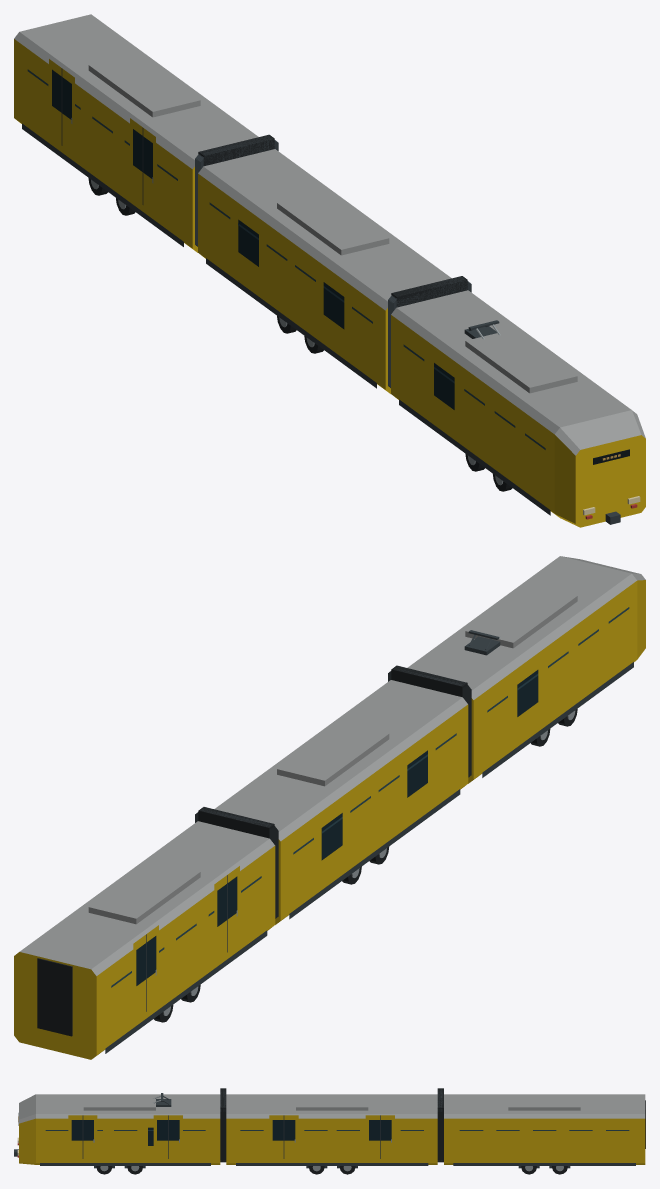
Rendered from tram-gt6n.glb.
3 views of the same model, one above another, from view 1: azimuth 30°, elevation 25°; view 2: azimuth 150°, elevation 25°; view 3: azimuth 270°, elevation 25° (orthographic). The views are drawn at different scales.
Parts seen in each view (by area): view 1: tram-gt6n.segment-01.005, tram-gt6n.segment-02.005, tram-gt6n.segment-03.005; view 2: tram-gt6n.segment-03.005, tram-gt6n.segment-02.005, tram-gt6n.segment-01.005; view 3: tram-gt6n.segment-02.005, tram-gt6n.segment-01.005, tram-gt6n.segment-03.005.
Part boxes in pixels (x1,y1,x2,y2): tram-gt6n.segment-01.005: [388, 276, 645, 527]; tram-gt6n.segment-02.005: [195, 134, 451, 393]; tram-gt6n.segment-03.005: [14, 14, 258, 252]; tram-gt6n.segment-03.005: [14, 821, 275, 1059]; tram-gt6n.segment-02.005: [195, 680, 468, 924]; tram-gt6n.segment-01.005: [388, 556, 645, 783]; tram-gt6n.segment-02.005: [226, 1088, 443, 1174]; tram-gt6n.segment-01.005: [14, 1088, 226, 1174]; tram-gt6n.segment-03.005: [444, 1094, 645, 1174].
Bounding box in the file's own units: 2.35 × 3.2 × 27.06.
